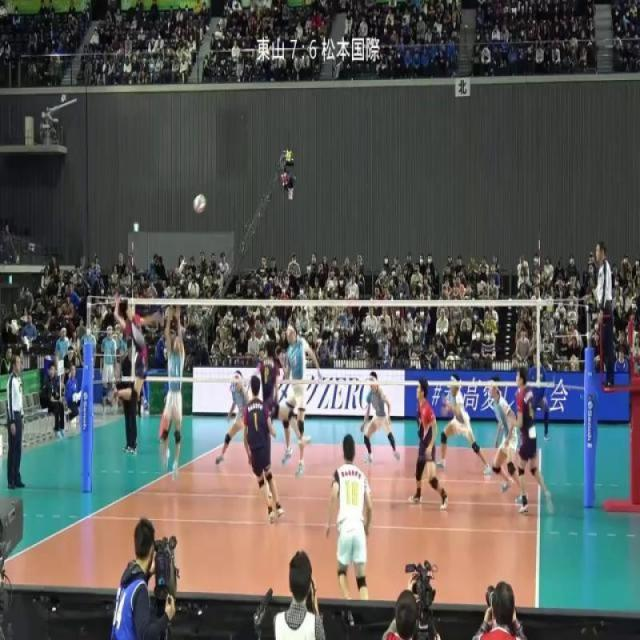volleyball: (192, 192, 207, 215)
